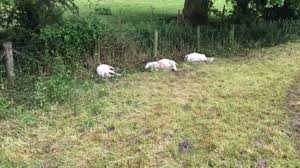sheep: (140, 56, 181, 77), (92, 61, 125, 83), (184, 50, 220, 69)
